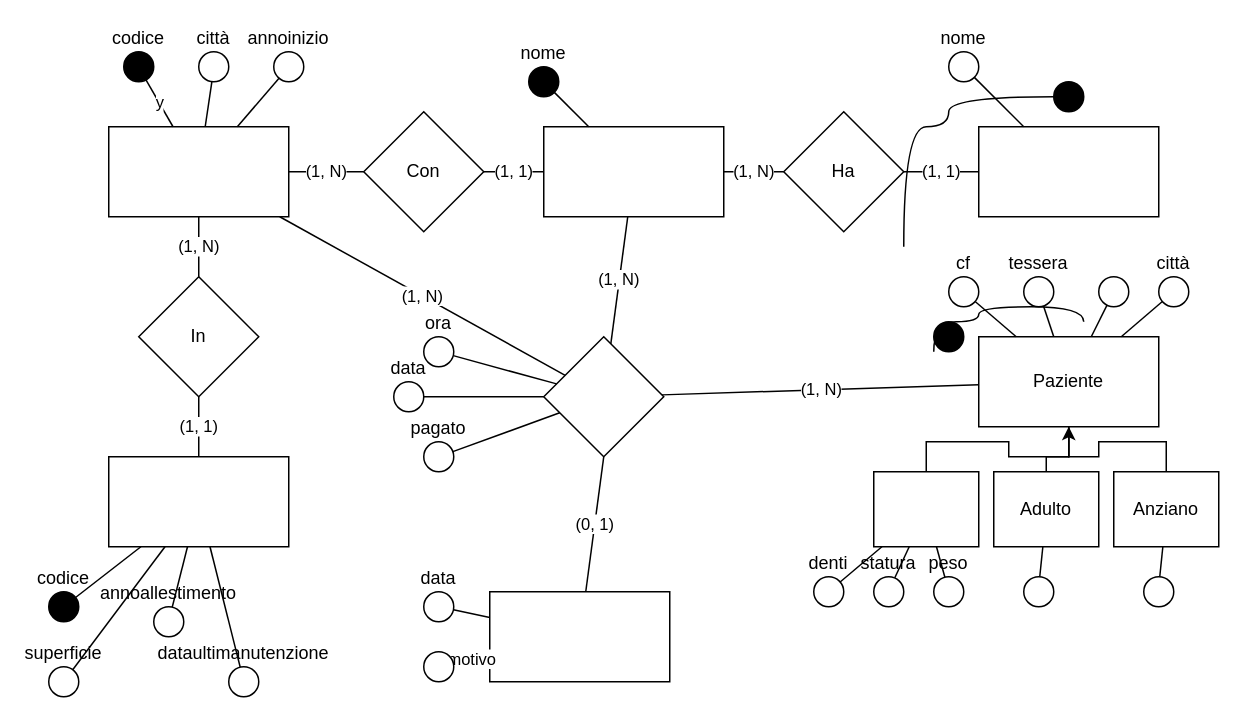
Some shapes in this 1245 by 723 pixel diagram are drawn without their labels. The centre of each missing label's shape, as x and y in pixels:
"Bambino" belongs at pixel 925 508.
"Disdetta" belongs at pixel 579 636.
"Medico" belongs at pixel 633 171.
"nascita" belongs at pixel 1113 291.
"pensione" belongs at pixel 1158 591.
"residenza" belongs at pixel 1038 591.
"Sala" belongs at pixel 198 501.
"Specializzazioni" belongs at pixel 1068 171.
"Studio" belongs at pixel 198 171.
"Visita" belongs at pixel 603 396.
